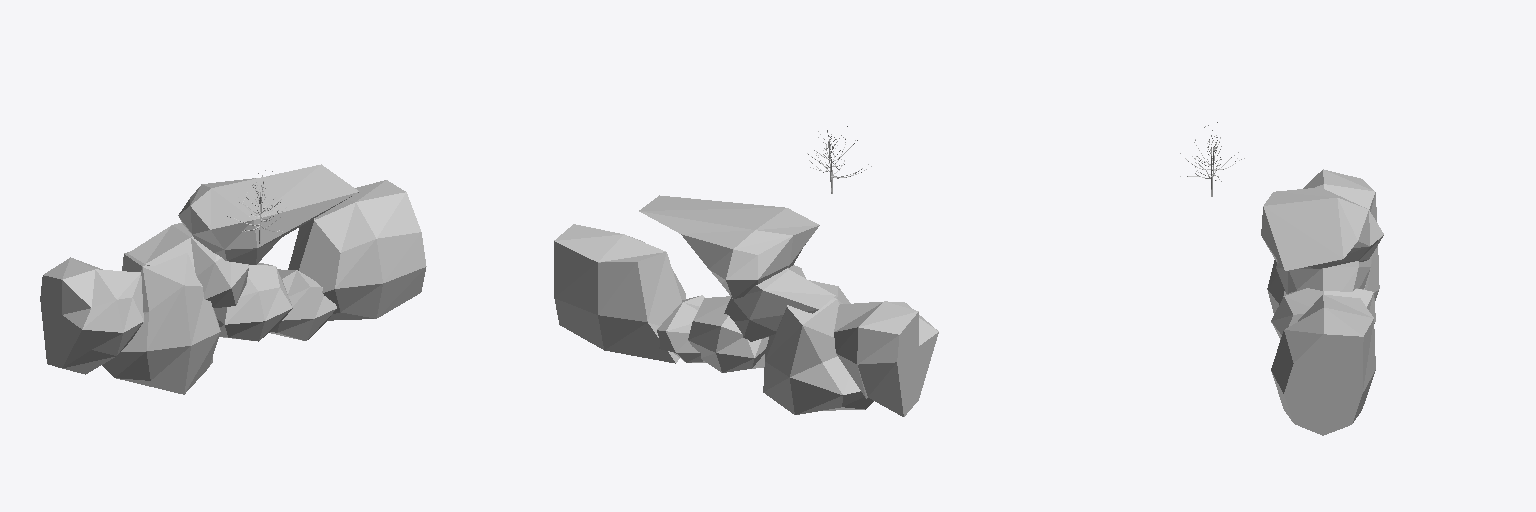
Rendered from Land4.obj.
3 renders of one model, left to right at view 1: azimuth 30°, elevation 25°; view 2: azimuth 150°, elevation 25°; view 3: azimuth 270°, elevation 25°, orthographic.
Parts seen in each view (by area): view 1: group1 pCube3, group1 pCube8, group1 pCube5, group1 pCube9, group1 pCube7, group1 pCube4, group1 pCube6; view 2: group1 pCube3, group1 pCube5, group1 pCube9, group1 pCube8, group1 pCube7, group1 pCube4, group1 pCube6; view 3: group1 pCube3, group1 pCube5, group1 pCube7, group1 pCube4, group1 pCube9, group1 pCube8.
Boxes of the visible parts, x1,y1,x2,y2 form: group1 pCube3: [288, 180, 426, 320]; group1 pCube8: [102, 252, 220, 394]; group1 pCube5: [178, 164, 358, 264]; group1 pCube9: [40, 257, 143, 374]; group1 pCube7: [128, 223, 248, 307]; group1 pCube4: [214, 263, 292, 341]; group1 pCube6: [270, 269, 336, 340]; group1 pCube3: [554, 224, 685, 363]; group1 pCube5: [639, 195, 819, 299]; group1 pCube9: [834, 301, 938, 416]; group1 pCube8: [763, 280, 873, 414]; group1 pCube7: [724, 265, 835, 341]; group1 pCube4: [688, 296, 768, 372]; group1 pCube6: [657, 295, 705, 362]; group1 pCube3: [1271, 295, 1375, 435]; group1 pCube5: [1261, 187, 1383, 270]; group1 pCube7: [1276, 258, 1370, 293]; group1 pCube4: [1271, 288, 1375, 339]; group1 pCube9: [1303, 169, 1376, 221]; group1 pCube8: [1267, 246, 1379, 313].
Bounding box in the file's own units: 5.99 × 4.07 × 3.14.